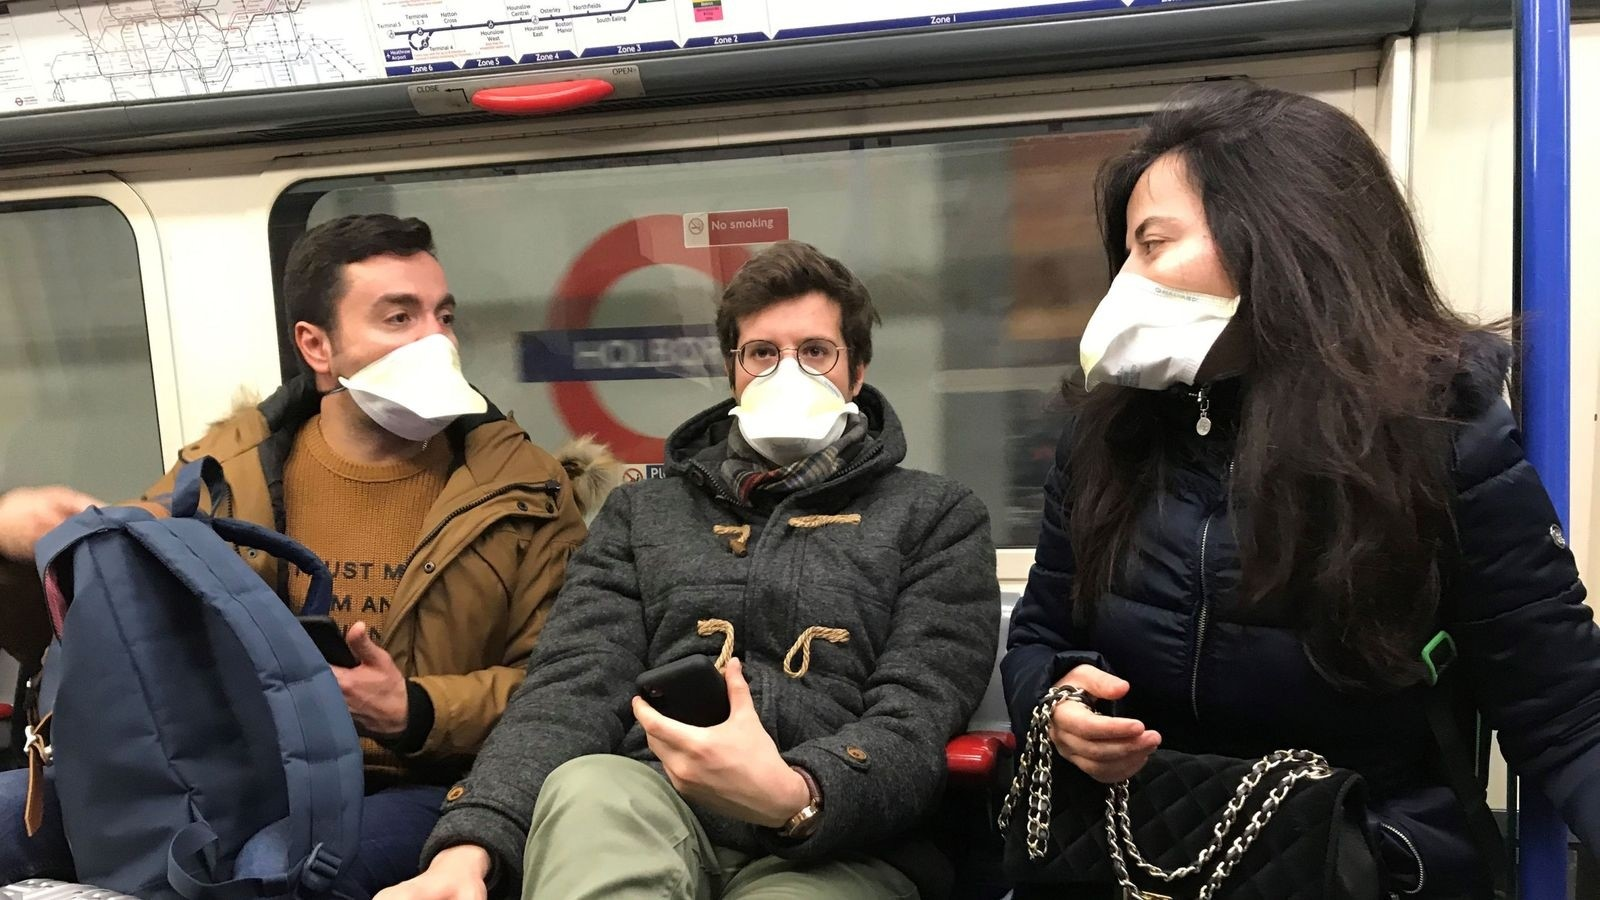face_with_mask: (1062, 87, 1404, 433), (295, 215, 514, 456), (719, 240, 875, 477)
